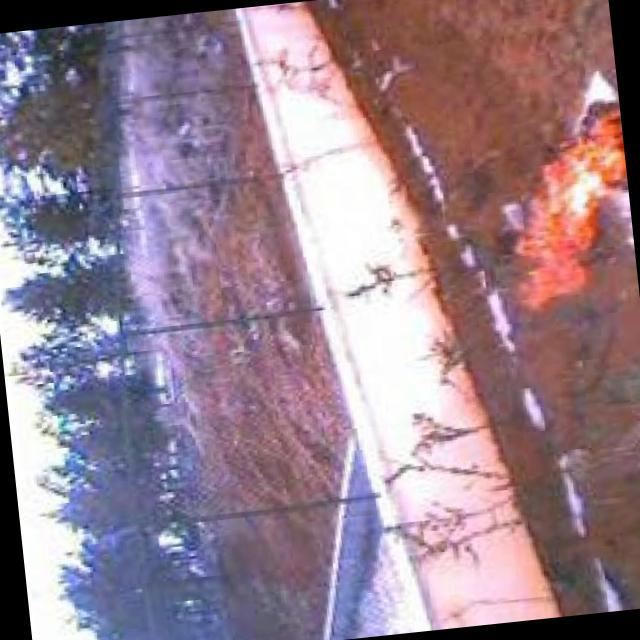Fire: (498, 97, 640, 319)
